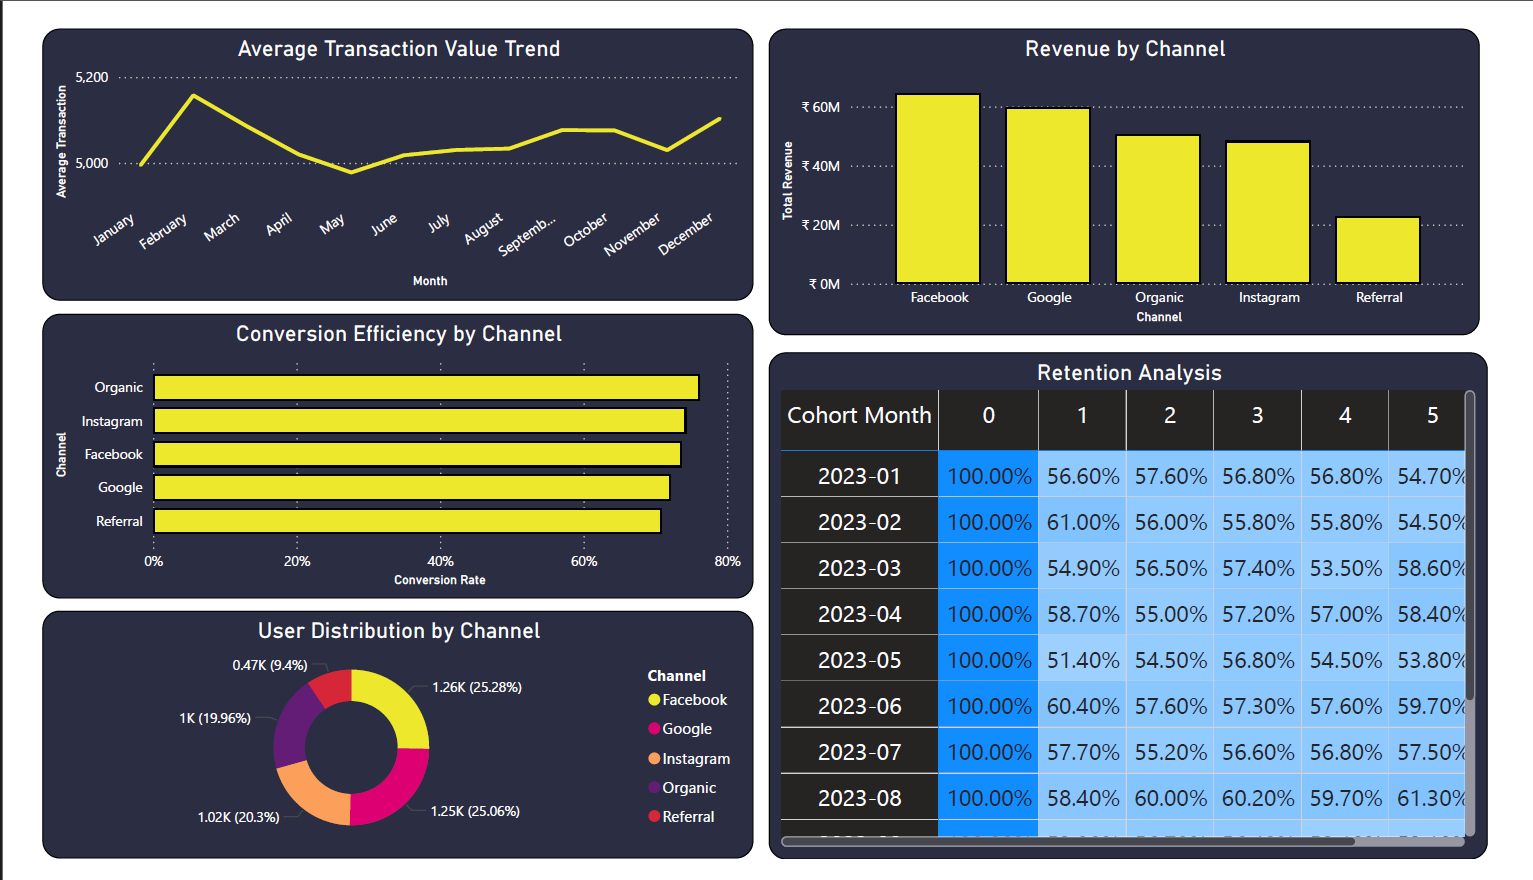

The dashboard page shown, as its layout file describes it:
{"tool":"powerbi","page":{"name":"User Behavior & Acquisition Insights","canvas":[1280,720],"ordinal":1},"visuals":[{"type":"barChart","title":"Conversion Efficiency by Channel","fields":{"Category":["users_cleaned.acquisition_channel"],"Y":["campaigns_cleaned.Conversion Rate"]},"box":[10.2,247.4,617.2,247.4],"z":0},{"type":"columnChart","title":"Revenue by Channel","fields":{"Category":["users_cleaned.acquisition_channel"],"Y":["campaigns_cleaned.Total Revenue"]},"box":[640.4,0,617.2,266.4],"z":1000},{"type":"donutChart","title":"User Distribution by Channel","fields":{"Category":["users_cleaned.acquisition_channel"],"Y":["Count(users_cleaned.user_id)"]},"box":[10.2,505.1,617.2,215.4],"z":2000},{"type":"lineChart","title":"Average Transaction Value Trend","fields":{"Category":["DateTable.Date.Variation.Date Hierarchy.Month"],"Y":["campaigns_cleaned.Avg Transaction Value"]},"box":[10.2,0,617.2,235.8],"z":3000},{"type":"pivotTable","title":"Retention Analysis","fields":{"Columns":["retention.cohort_index"],"Values":["Avg(retention.retention_rate)"],"Rows":["retention.cohort_month.Variation.Date Hierarchy.Month"]},"box":[640.4,280.9,624.4,439.6],"z":4000}]}

Visuals, with their boxes in screenshot pixels (x1, y1, x2, y2), scaled from the page's 1280x720 canvas onto the 1533x880 screenshot:
"Conversion Efficiency by Channel" barChart: 12:302:751:605
"Revenue by Channel" columnChart: 767:0:1506:326
"User Distribution by Channel" donutChart: 12:617:751:879
"Average Transaction Value Trend" lineChart: 12:0:751:288
"Retention Analysis" pivotTable: 767:343:1515:879
